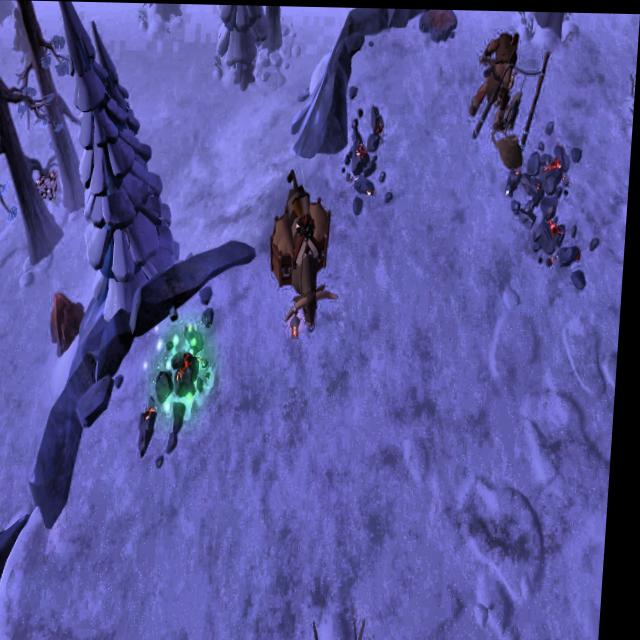enemy_factionKeeper: (470, 23, 522, 127)
rock_t5: (52, 289, 91, 358)
